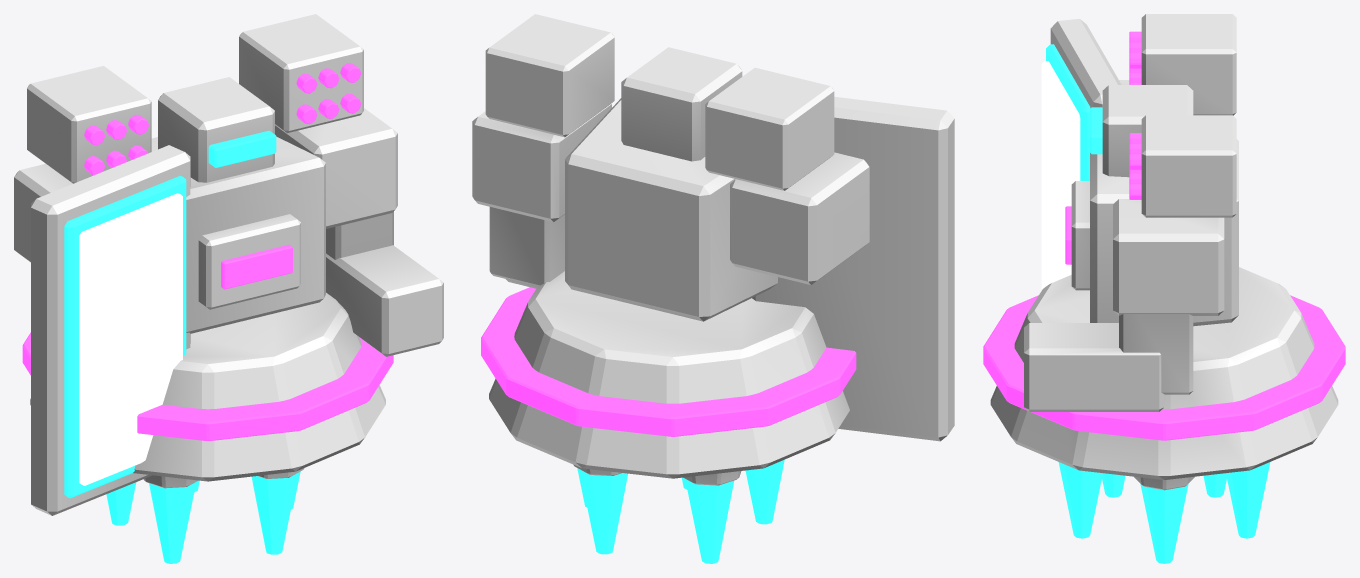
Rendered from e2_riot_enforcer.glb.
3 renders of one model, left to right at view 1: azimuth 30°, elevation 25°; view 2: azimuth 150°, elevation 25°; view 3: azimuth 270°, elevation 25°, orthographic. The views are drawn at different scales.
Parts seen in each view (by area): view 1: HoverSkirt, ShieldInnerFace, ShieldBody, Torso, PodBox_L, PodBox_R, RightForearm, SkirtTrim, Pauldron_R, Helmet, ShieldGlowRim, ChestCore (+7 smaller); view 2: HoverSkirt, ShieldBody, Torso, SkirtTrim, Pauldron_L, PodBox_R, PodBox_L, Helmet, Pauldron_R, RightArm, Core_Pulse_Jet_2, Core_Pulse_Jet_1 (+1 smaller); view 3: HoverSkirt, SkirtTrim, Pauldron_R, RightForearm, PodBox_R, PodBox_L, ShieldInnerFace, Torso, Helmet, RightArm, ShieldBody, Core_Pulse_Jet_0 (+8 smaller).
Boxes of the visible parts, bbox=[...] form: HoverSkirt: bbox=[30, 292, 385, 481]; ShieldInnerFace: bbox=[79, 193, 182, 485]; ShieldBody: bbox=[31, 145, 190, 515]; Torso: bbox=[151, 136, 325, 333]; PodBox_L: bbox=[27, 66, 151, 183]; PodBox_R: bbox=[239, 14, 363, 133]; RightForearm: bbox=[326, 245, 443, 356]; SkirtTrim: bbox=[22, 332, 393, 440]; Pauldron_R: bbox=[275, 108, 397, 228]; Helmet: bbox=[158, 77, 274, 182]; ShieldGlowRim: bbox=[64, 175, 186, 498]; ChestCore: bbox=[198, 214, 300, 309]; HoverSkirt: bbox=[489, 271, 849, 478]; ShieldBody: bbox=[752, 96, 954, 441]; Torso: bbox=[565, 98, 777, 321]; SkirtTrim: bbox=[481, 287, 856, 436]; Pauldron_L: bbox=[730, 152, 869, 284]; PodBox_R: bbox=[485, 14, 614, 137]; PodBox_L: bbox=[705, 67, 834, 190]; Helmet: bbox=[621, 47, 742, 161]; Pauldron_R: bbox=[472, 103, 611, 222]; RightArm: bbox=[489, 207, 564, 286]; Core_Pulse_Jet_2: bbox=[685, 479, 733, 563]; Core_Pulse_Jet_1: bbox=[579, 469, 627, 554]; HoverSkirt: bbox=[990, 267, 1338, 479]; SkirtTrim: bbox=[983, 295, 1345, 440]; Pauldron_R: bbox=[1113, 199, 1224, 315]; RightForearm: bbox=[1024, 323, 1164, 411]; PodBox_R: bbox=[1141, 115, 1236, 217]; PodBox_L: bbox=[1141, 14, 1236, 115]; ShieldInnerFace: bbox=[1041, 61, 1080, 290]; Torso: bbox=[1090, 139, 1238, 326]; Helmet: bbox=[1102, 85, 1193, 177]; RightArm: bbox=[1119, 314, 1193, 394]; ShieldBody: bbox=[1050, 18, 1121, 107]; Core_Pulse_Jet_0: bbox=[1140, 484, 1188, 563].
Bounding box in the file's own units: 2.51 × 2.8 × 2.08.
